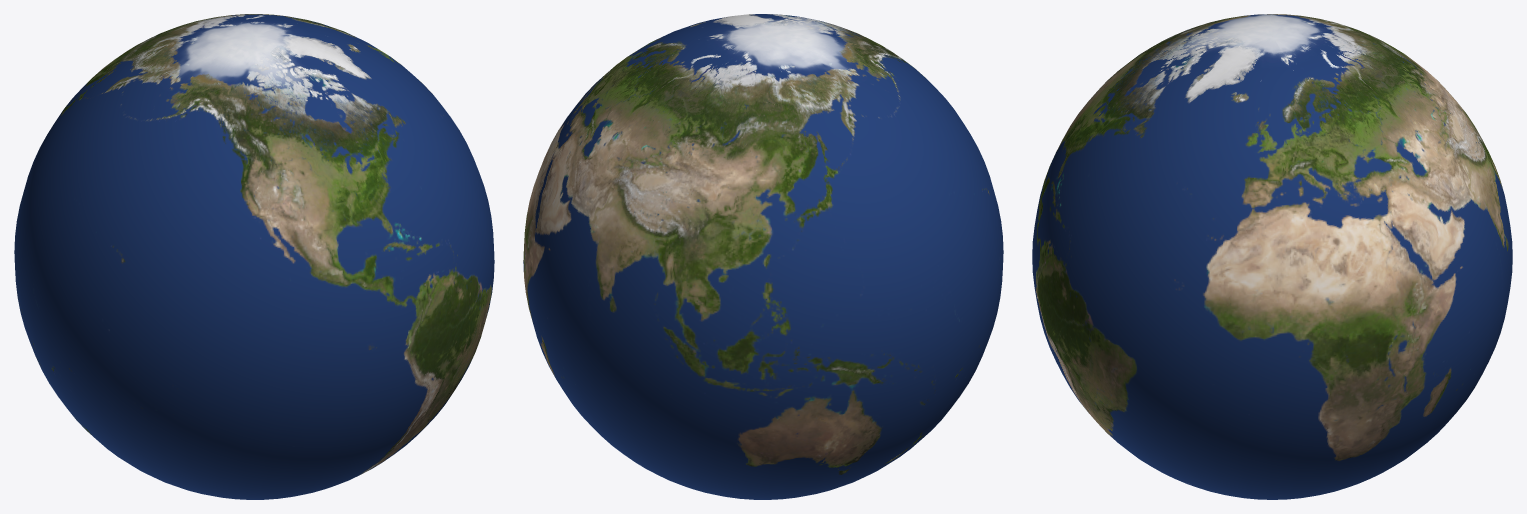
The model's file is Earth.obj.
3 renders of one model, left to right at view 1: azimuth 30°, elevation 25°; view 2: azimuth 150°, elevation 25°; view 3: azimuth 270°, elevation 25°, orthographic.
Parts seen in each view (by area): view 1: Earth; view 2: Earth; view 3: Earth.
Boxes of the visible parts, x1,y1,x2,y2 form: Earth: (14,14,494,499); Earth: (523,14,1003,499); Earth: (1032,14,1512,499).
Size of the model in its own units: 29.79 by 30.14 by 29.78.
1 material, 1 textured.
